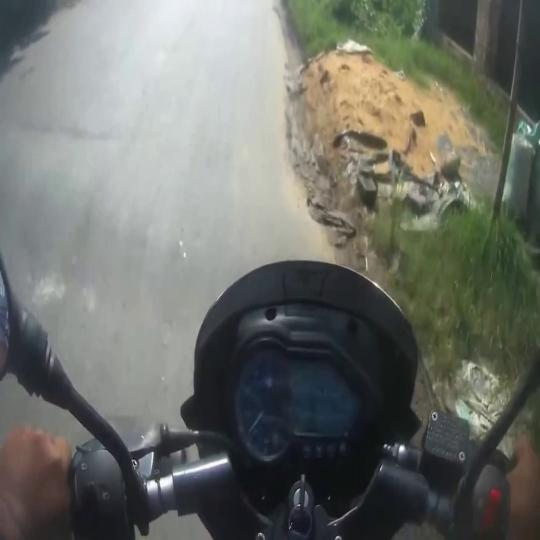Speed Bump: (0, 114, 208, 314)
